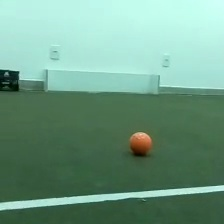ball: (127, 129, 154, 158)
goal: (41, 67, 161, 97)
robot: (1, 67, 22, 93)
